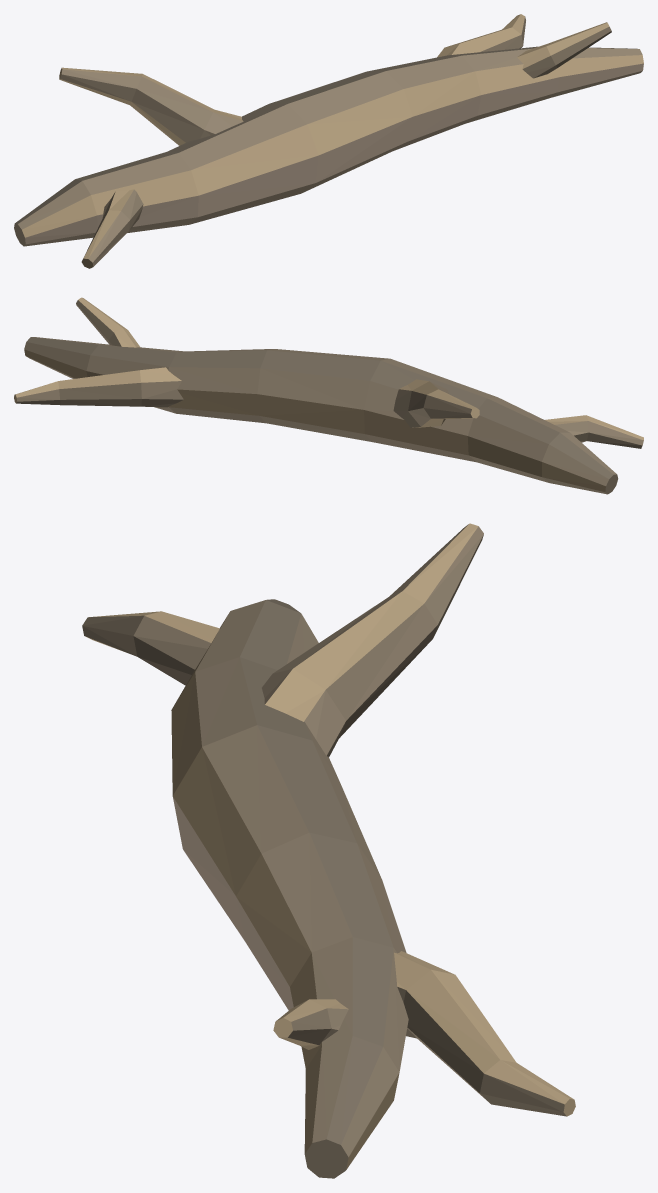
The model's file is SM_CoastalDriftwood.fbx.
The picture shows the model from 3 angles, top to bottom: view 1: azimuth 30°, elevation 25°; view 2: azimuth 150°, elevation 25°; view 3: azimuth 270°, elevation 25°; orthographic projection. The views are drawn at different scales.
Parts seen in each view (by area): view 1: SM_CoastalDriftwood; view 2: SM_CoastalDriftwood; view 3: SM_CoastalDriftwood.
Boxes of the visible parts, bbox=[...] form: SM_CoastalDriftwood: bbox=[14, 14, 643, 268]; SM_CoastalDriftwood: bbox=[14, 297, 643, 494]; SM_CoastalDriftwood: bbox=[82, 523, 575, 1178].
Bounding box in the file's own units: 152 × 56.88 × 26.7.
Materials: 1 (1 with a texture image).
